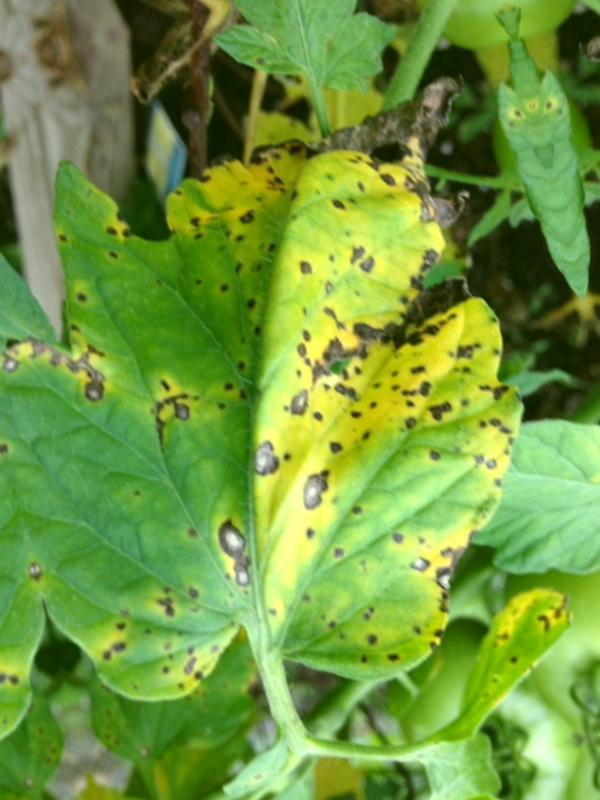Tomato Septoria leaf spot: (0, 77, 581, 760)
